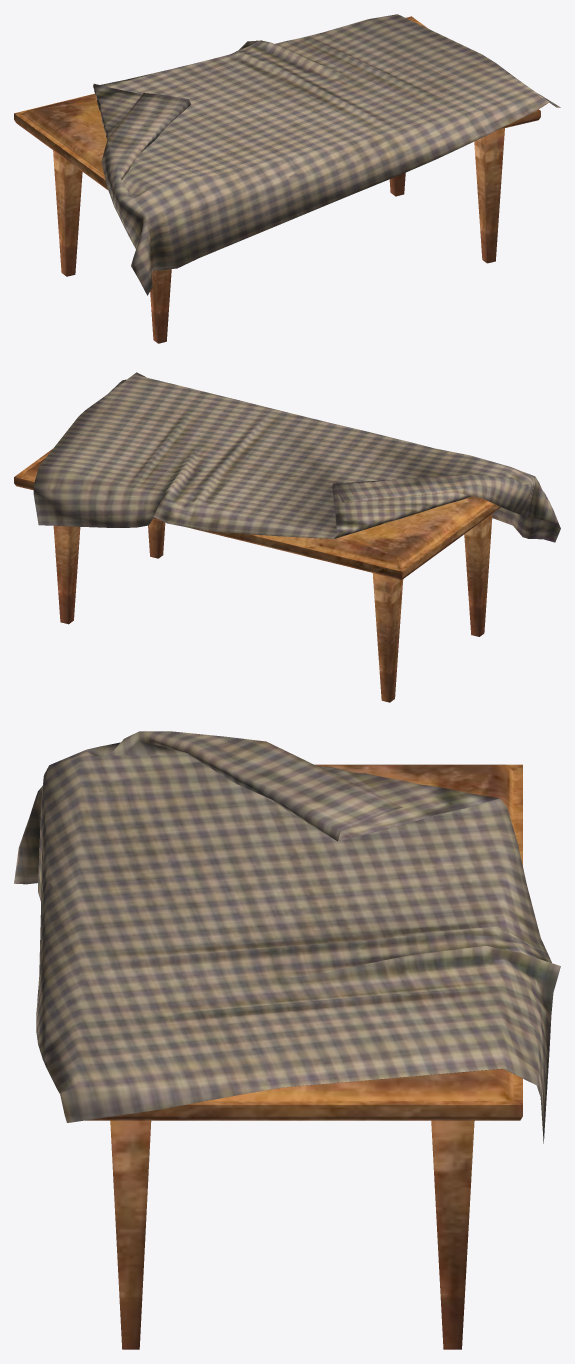
Rendered from dining_table.glb.
The picture shows the model from 3 angles, top to bottom: view 1: azimuth 30°, elevation 25°; view 2: azimuth 150°, elevation 25°; view 3: azimuth 270°, elevation 25°; orthographic projection. The views are drawn at different scales.
Visible parts, largest first — view 1: dining_table; view 2: dining_table; view 3: dining_table.
Part boxes in pixels (left/top/right/bottom): dining_table: left=14, top=14, right=560, bottom=343; dining_table: left=14, top=372, right=560, bottom=702; dining_table: left=14, top=731, right=560, bottom=1349.
Bounding box in the file's own units: 2.26 × 0.8769 × 1.39.
Materials: 1 (1 with a texture image).
